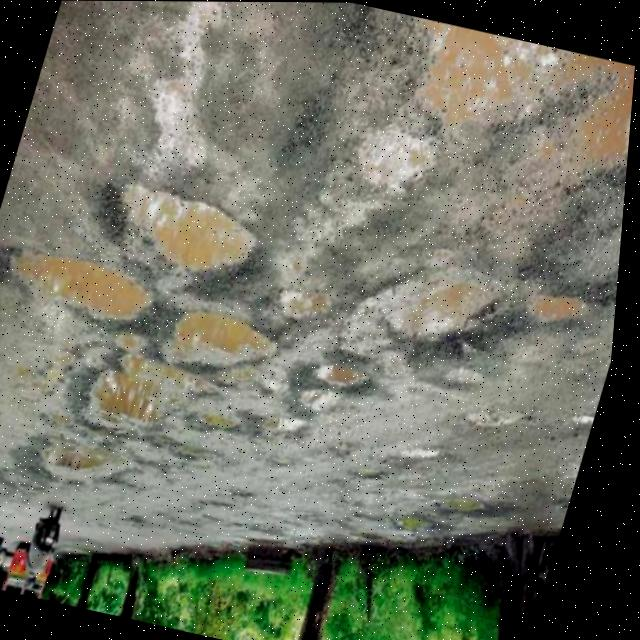Pothole: (348, 11, 639, 234), (347, 225, 547, 407), (71, 157, 292, 313), (0, 223, 184, 351), (153, 281, 303, 403), (72, 344, 222, 466), (30, 423, 132, 499), (523, 268, 610, 349), (272, 262, 349, 345), (307, 348, 394, 405), (437, 481, 518, 533), (185, 398, 258, 450), (256, 400, 326, 452), (297, 374, 359, 426), (398, 430, 454, 479), (397, 502, 448, 548), (568, 391, 607, 443), (353, 450, 402, 489), (355, 518, 397, 562), (250, 509, 301, 545), (557, 476, 584, 528), (200, 491, 246, 520), (264, 449, 300, 478), (232, 481, 268, 507), (127, 503, 159, 532), (0, 252, 11, 327)
